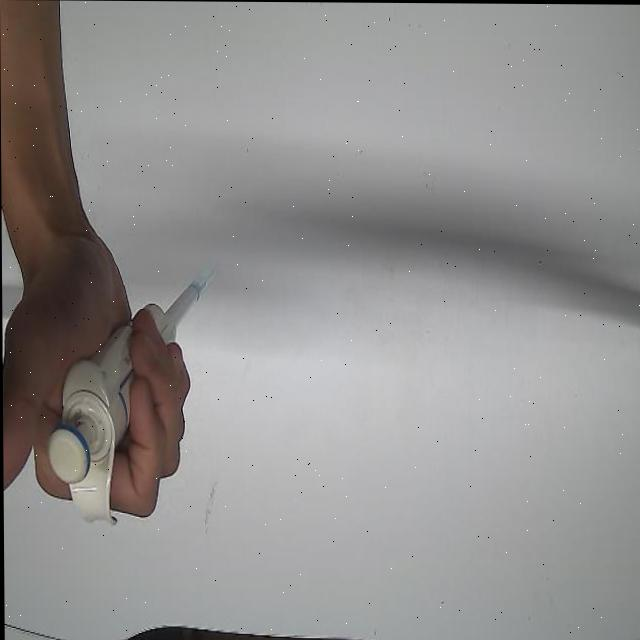Single Channel Pipettor: (45, 272, 208, 527)
